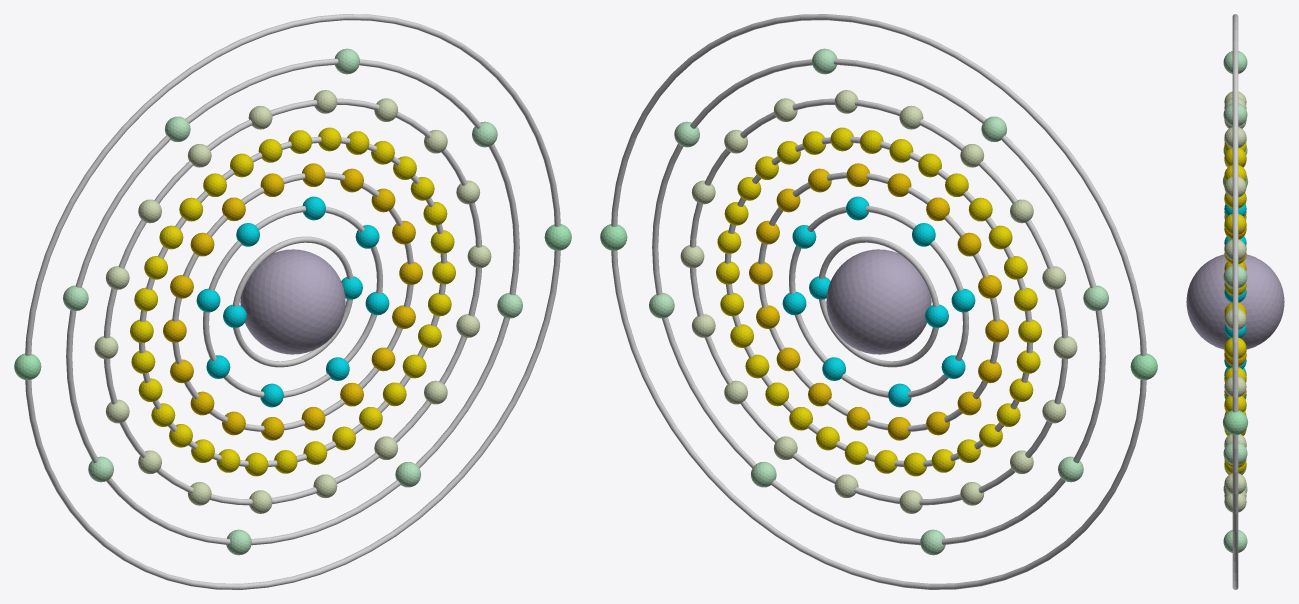
3 renders of one model, left to right at view 1: azimuth 30°, elevation 25°; view 2: azimuth 150°, elevation 25°; view 3: azimuth 270°, elevation 25°, orthographic. The views are drawn at different scales.
Parts seen in each view (by area): view 1: world; view 2: world; view 3: world.
Part boxes in pixels (x1,y1,x2,y2): world: (14,14,571,589); world: (600,14,1157,589); world: (1186,14,1284,589).
Bounding box in the file's own units: 2.67 × 2.59 × 0.44.
